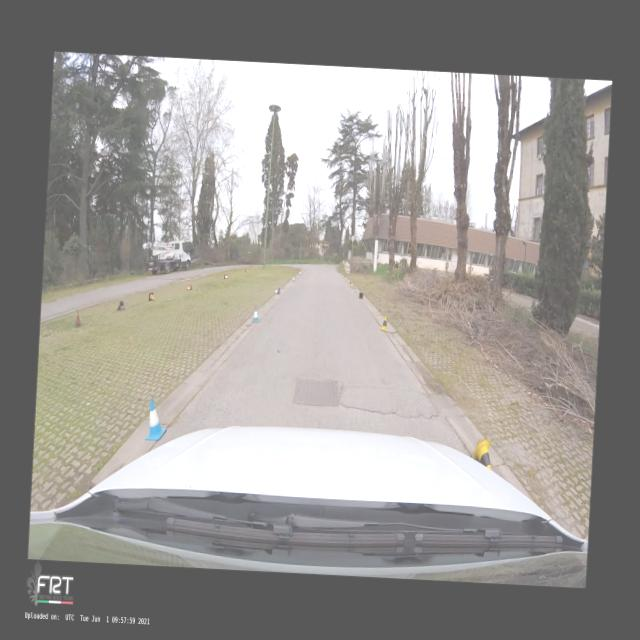blue_cone: (145, 398, 168, 441), (252, 307, 262, 322), (274, 286, 280, 294), (292, 276, 294, 282), (299, 270, 301, 275)
unknown_cone: (74, 310, 83, 328), (116, 300, 125, 311), (148, 292, 156, 301), (186, 284, 192, 290), (359, 292, 364, 299), (224, 274, 228, 279), (246, 268, 248, 272)
yellow_cone: (471, 438, 493, 471), (380, 314, 389, 332), (349, 280, 352, 286), (344, 274, 346, 278)
